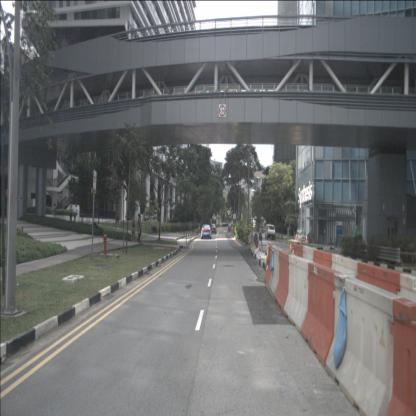barrier: (325, 272, 403, 416), (300, 262, 342, 366), (384, 296, 416, 416), (356, 262, 402, 318), (283, 254, 313, 333), (330, 253, 360, 298), (396, 271, 416, 337), (274, 250, 291, 311), (312, 249, 334, 285), (267, 245, 282, 296), (302, 245, 318, 279), (290, 243, 304, 277), (265, 244, 276, 285)
cone: (305, 234, 308, 243)
